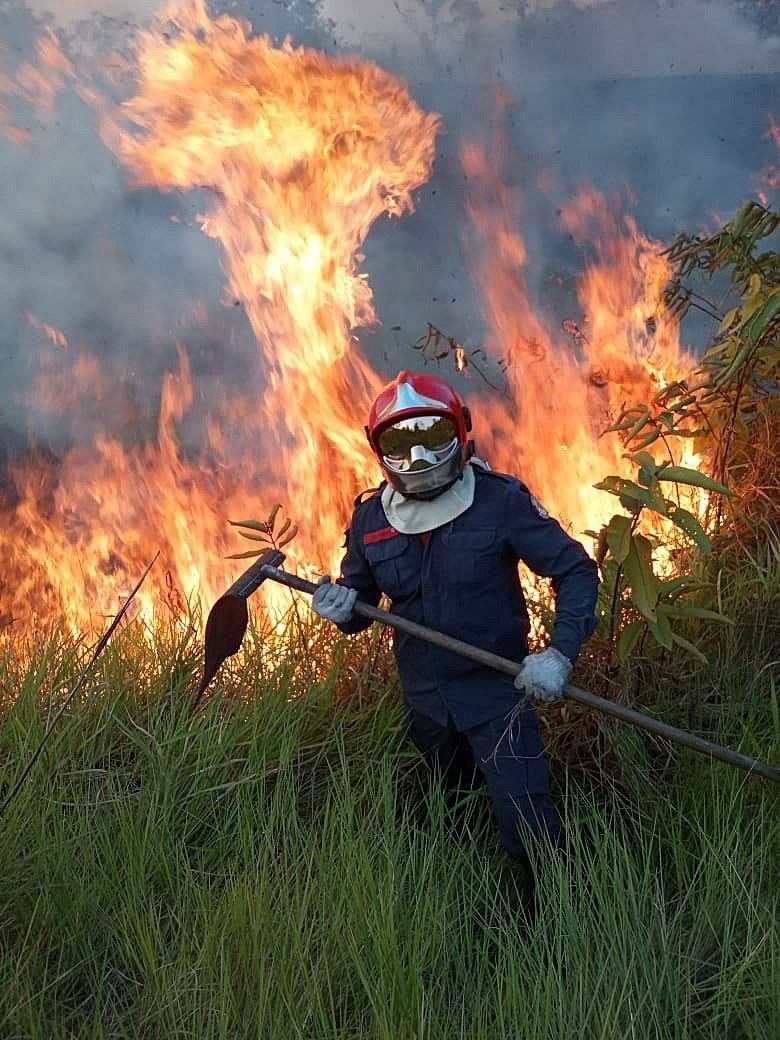fire: (32, 1, 729, 666)
